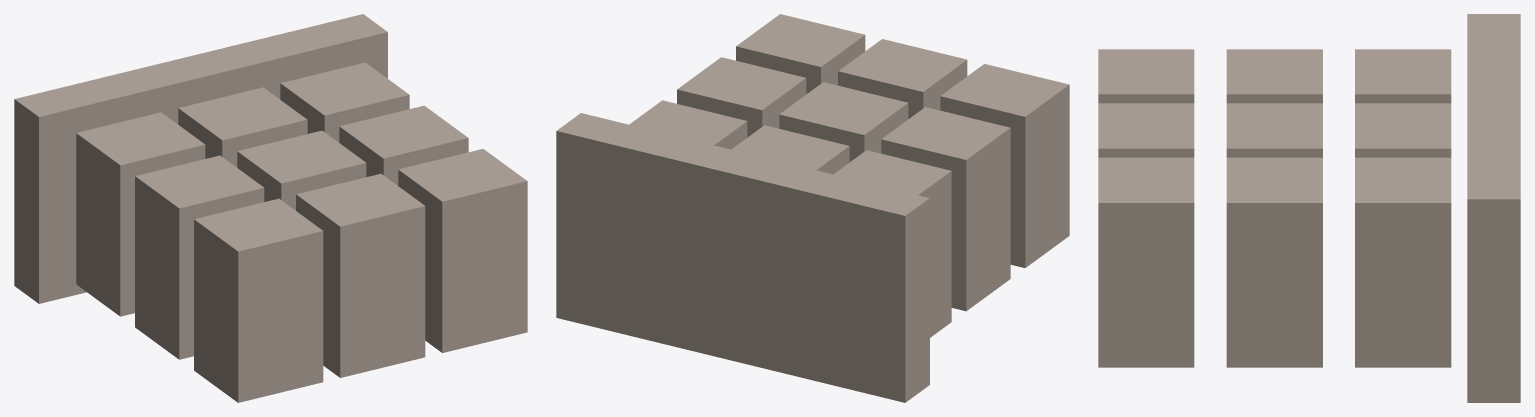
The model's file is workshop-parts-bin_lod1.glb.
3 views of the same model, side by side, from view 1: azimuth 30°, elevation 25°; view 2: azimuth 150°, elevation 25°; view 3: azimuth 270°, elevation 25° (orthographic). The views are drawn at different scales.
Parts seen in each view (by area): view 1: world; view 2: world; view 3: world.
Boxes of the visible parts, left/top/right/bottom form: world: left=14, top=14, right=527, bottom=402; world: left=556, top=14, right=1069, bottom=402; world: left=1098, top=14, right=1520, bottom=402.
Bounding box in the file's own units: 0.82 × 0.42 × 0.79.
